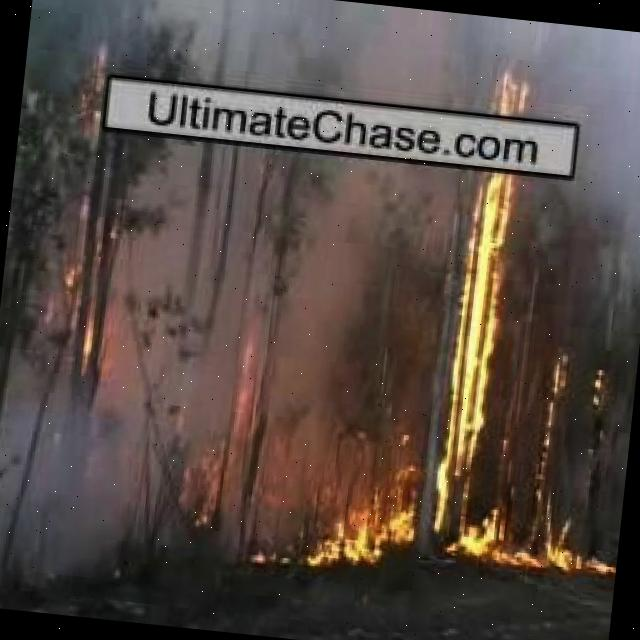fire: (440, 73, 536, 559), (296, 459, 412, 572), (518, 503, 620, 580)
